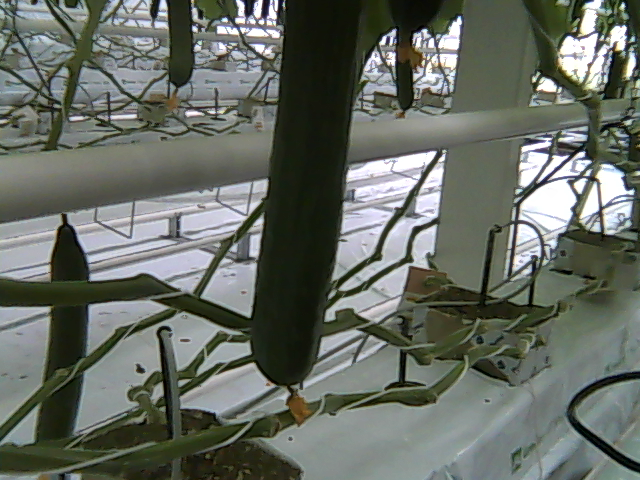concombre: (246, 2, 364, 430)
